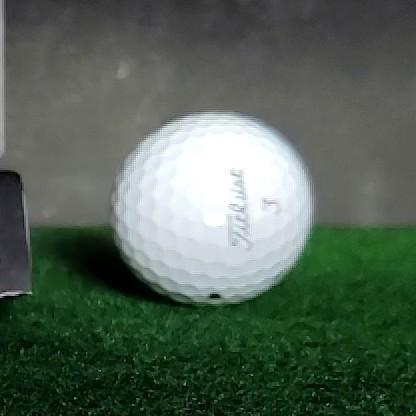golfball: (108, 112, 313, 305)
